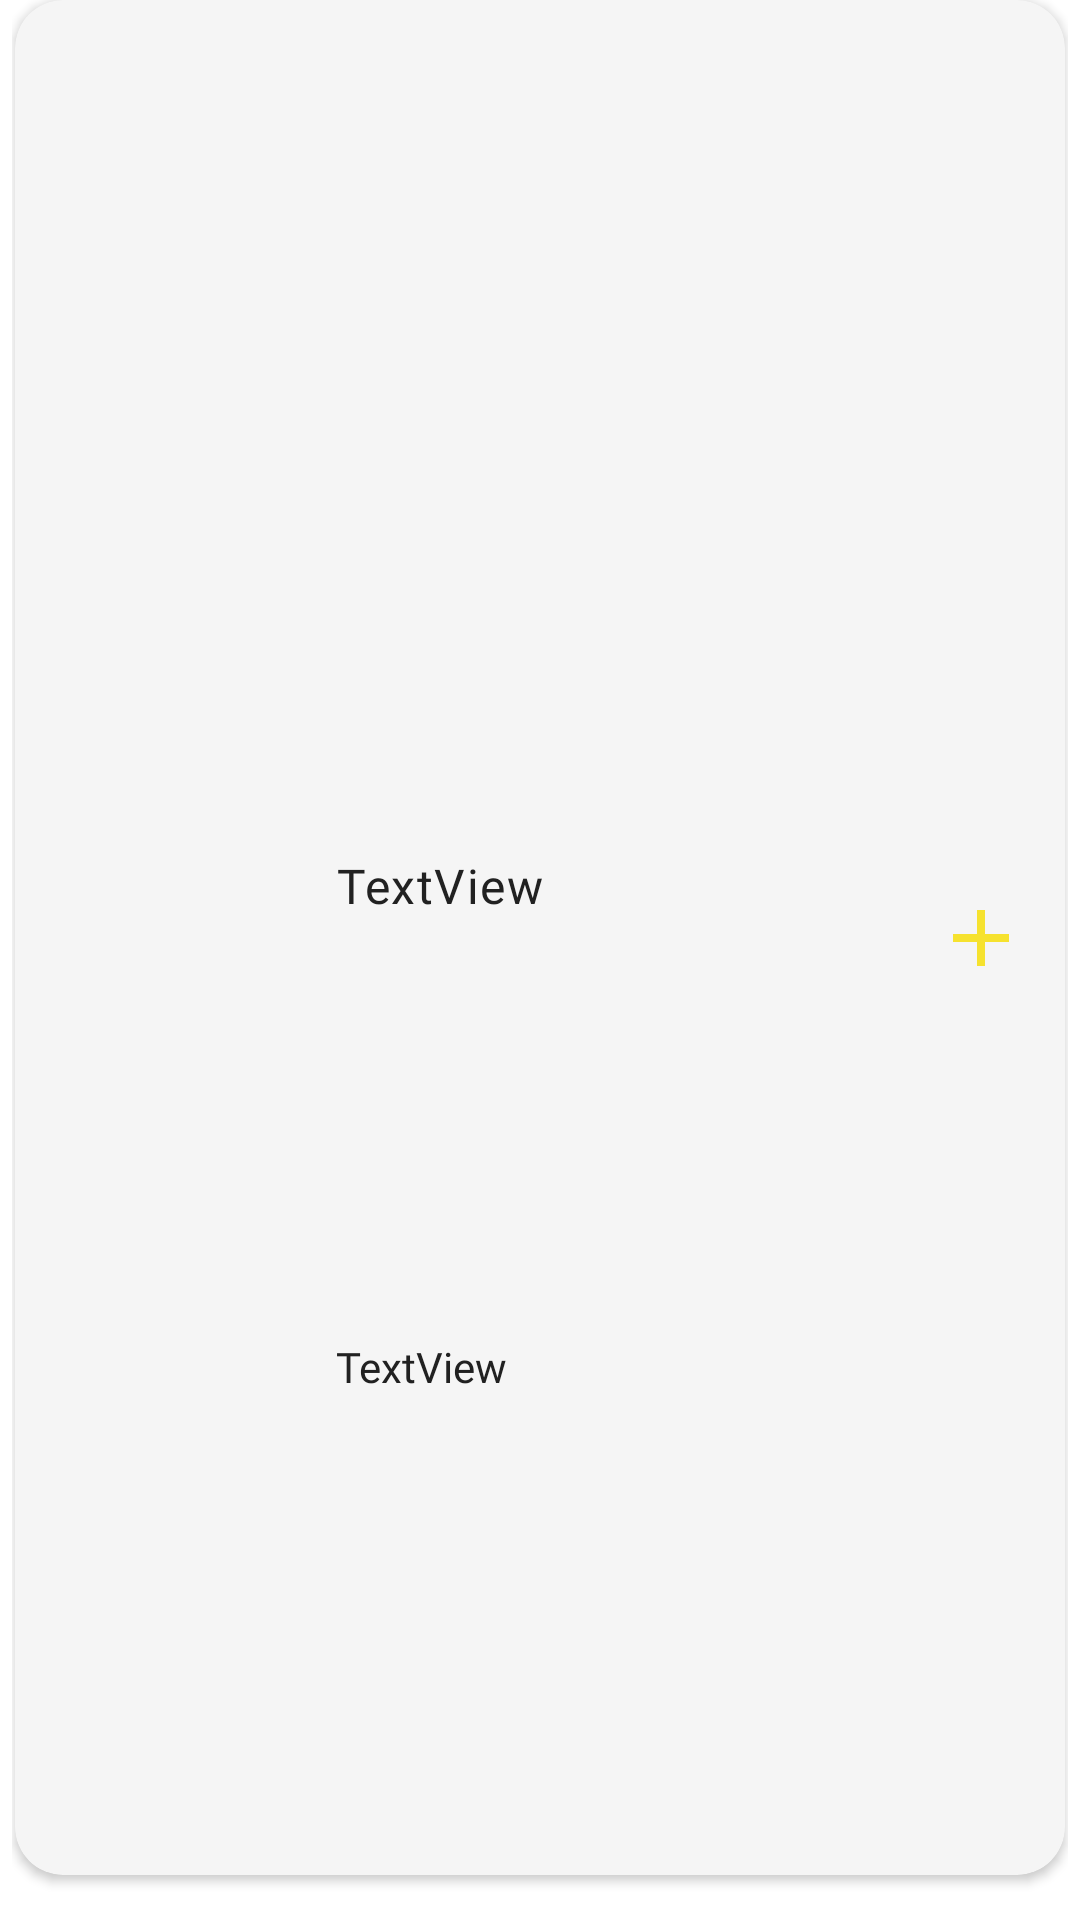

Screen size 1080px x 1920px. Icon name, then its box in pixels as (x1, y1, x2, y2):
add medium: (953, 910, 1009, 966)
